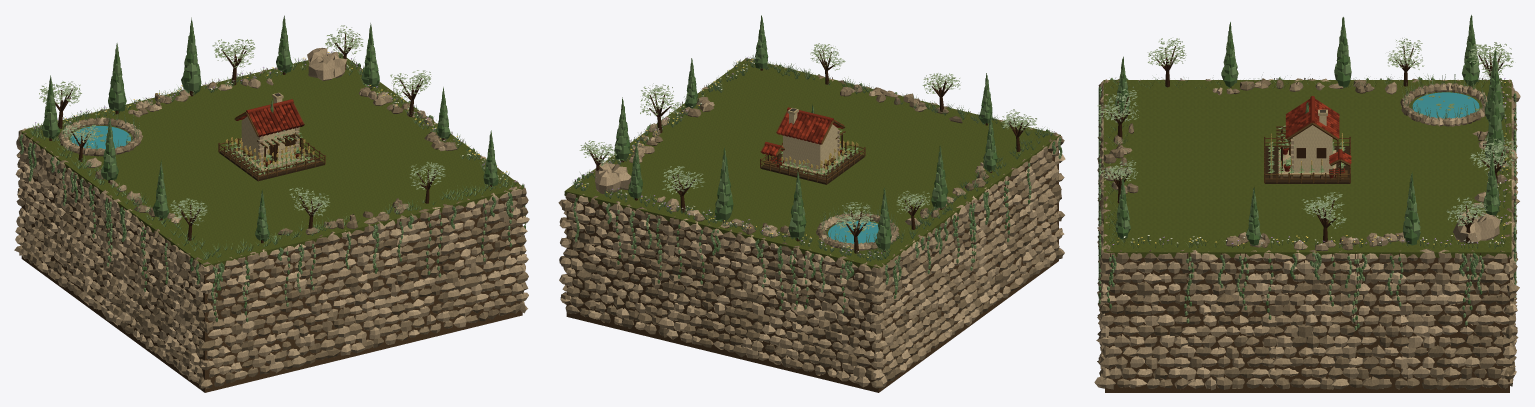
The model's file is little-rome.glb.
3 renders of one model, left to right at view 1: azimuth 30°, elevation 25°; view 2: azimuth 150°, elevation 25°; view 3: azimuth 270°, elevation 25°, orthographic. The views are drawn at different scales.
Parts seen in each view (by area): view 1: Landscape, WildBorder, Home, Field, Crops, Pond; view 2: Landscape, WildBorder, Home, Field, Pond, Crops; view 3: Landscape, WildBorder, Home, Field, Pond, Crops.
Boxes of the visible parts, left/top/right/bottom form: Landscape: left=14, top=47, right=529, bottom=392; WildBorder: left=29, top=15, right=517, bottom=259; Home: left=234, top=92, right=307, bottom=171; Field: left=218, top=138, right=325, bottom=181; Crops: left=225, top=137, right=314, bottom=174; Pond: left=70, top=124, right=131, bottom=149; Landscape: left=558, top=58, right=1065, bottom=392; WildBorder: left=573, top=15, right=1053, bottom=261; Home: left=776, top=107, right=847, bottom=175; Field: left=760, top=142, right=865, bottom=184; Pond: left=828, top=219, right=878, bottom=243; Crops: left=780, top=141, right=858, bottom=177; Landscape: left=1094, top=74, right=1520, bottom=392; WildBorder: left=1097, top=15, right=1515, bottom=248; Home: left=1276, top=96, right=1339, bottom=176; Field: left=1264, top=136, right=1351, bottom=183; Pond: left=1412, top=92, right=1479, bottom=118; Crops: left=1268, top=133, right=1345, bottom=175.
Bounding box in the file's own units: 14.23 × 8.44 × 14.33.
43 materials, 20 textured.
